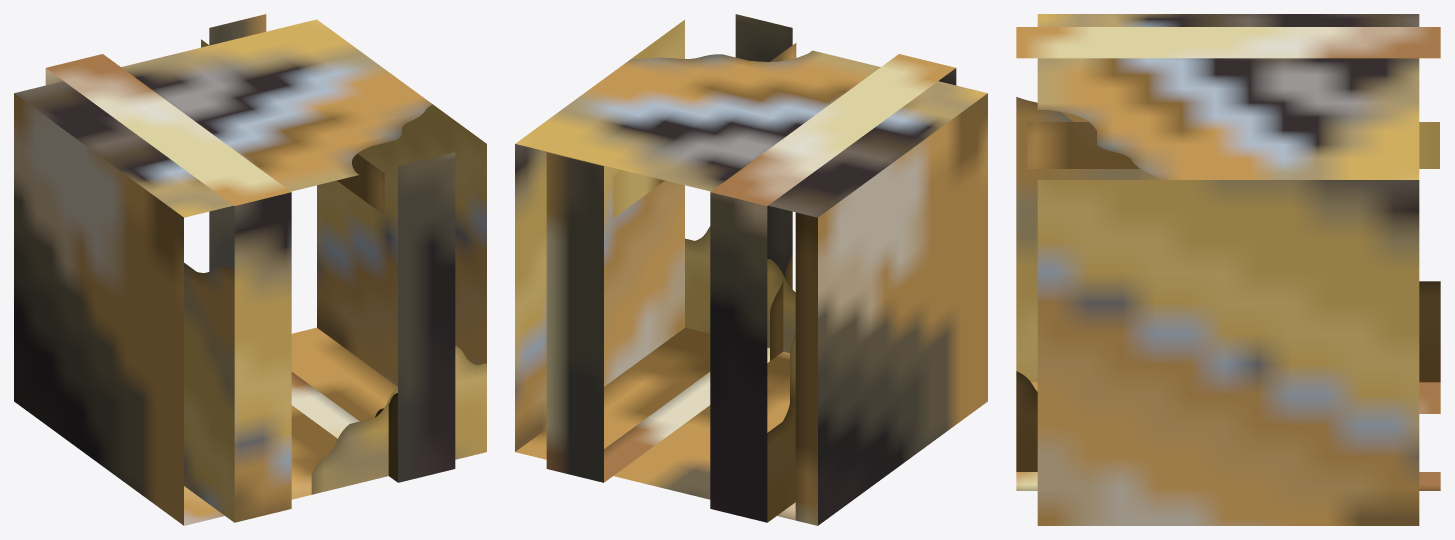
File: noxus_worn_h.obj
3 views of the same model, side by side, from view 1: azimuth 30°, elevation 25°; view 2: azimuth 150°, elevation 25°; view 3: azimuth 270°, elevation 25° (orthographic). The views are drawn at different scales.
Visible parts, largest first — view 1: cube; view 2: cube; view 3: cube.
Boxes of the visible parts, x1,y1,x2,y2 form: cube: (14, 14, 486, 525); cube: (515, 14, 987, 525); cube: (1016, 14, 1440, 525).
Bounding box in the file's own units: 0.5784 × 0.5783 × 0.625.
